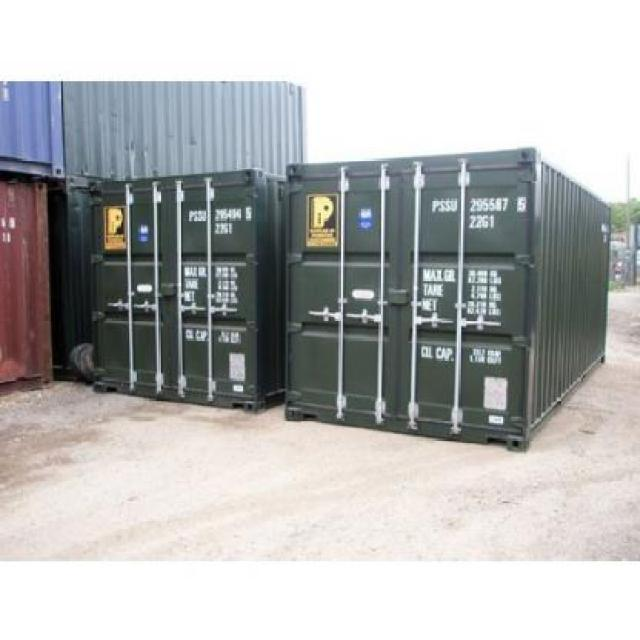ISO: (466, 213, 496, 230), (212, 222, 236, 236)
container_number: (430, 196, 530, 213), (188, 204, 253, 222)
